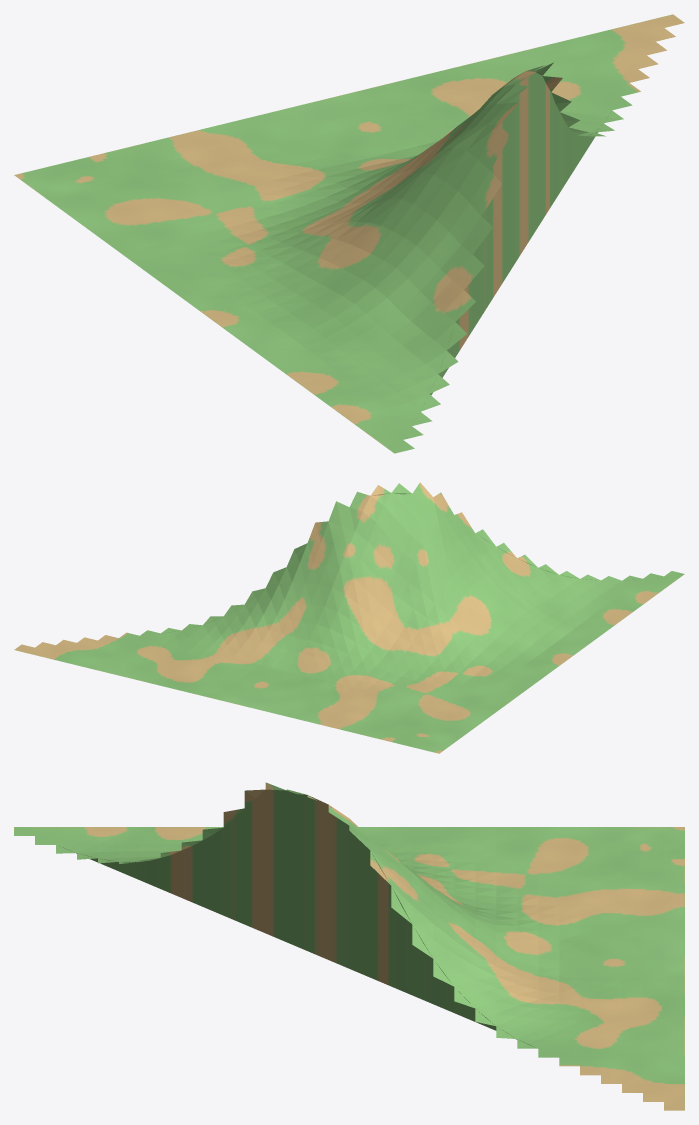
Rendered from Grass_Hills_03_SW.obj.
The picture shows the model from 3 angles, top to bottom: view 1: azimuth 30°, elevation 25°; view 2: azimuth 150°, elevation 25°; view 3: azimuth 270°, elevation 25°; orthographic projection. The views are drawn at different scales.
Bounding box in the file's own units: 10 × 2.68 × 10.
1 material, 1 textured.
